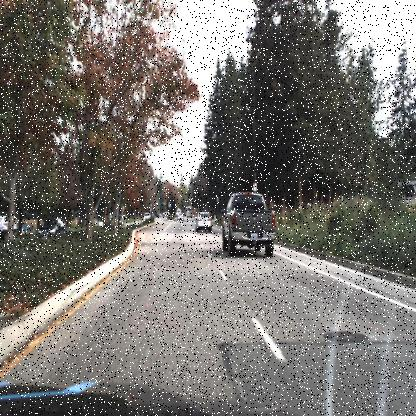car: (222, 189, 278, 258), (35, 217, 65, 237), (195, 207, 214, 235), (110, 212, 125, 228)
